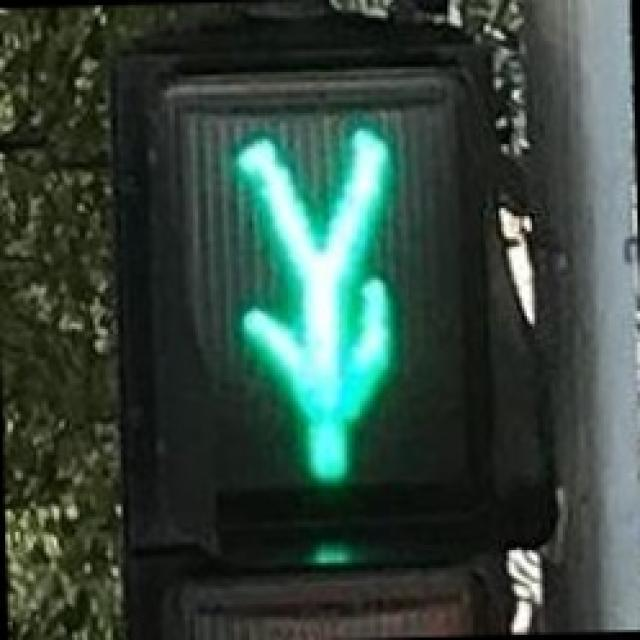geen-crossing: (178, 100, 452, 535)
